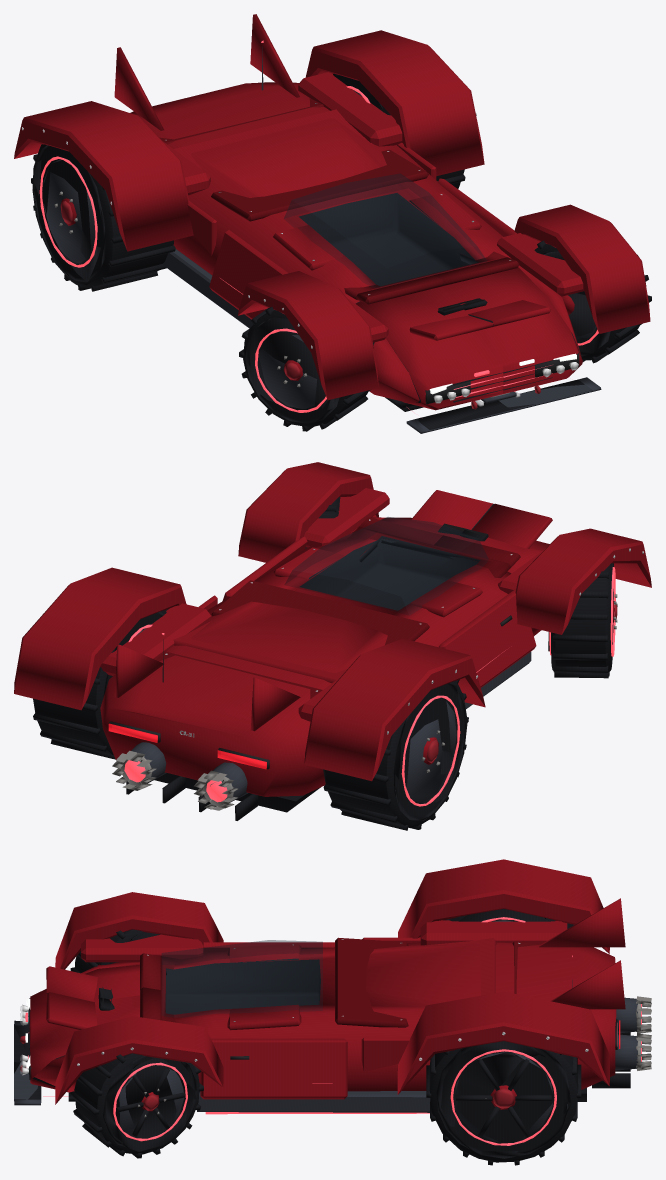
The model's file is CRX1_interceptor_pursuit_lod1.glb.
3 renders of one model, top to bottom at view 1: azimuth 30°, elevation 25°; view 2: azimuth 150°, elevation 25°; view 3: azimuth 270°, elevation 25°, orthographic. The views are drawn at different scales.
Parts seen in each view (by area): view 1: CRX1_interceptor_pursuit_LOD1; view 2: CRX1_interceptor_pursuit_LOD1; view 3: CRX1_interceptor_pursuit_LOD1.
Part boxes in pixels (x1,y1,x2,y2): CRX1_interceptor_pursuit_LOD1: (14,14,651,433); CRX1_interceptor_pursuit_LOD1: (14,462,651,830); CRX1_interceptor_pursuit_LOD1: (14,859,651,1165).
Size of the model in its own units: 4.08 by 1.75 by 6.53.
17 materials, 9 textured.
